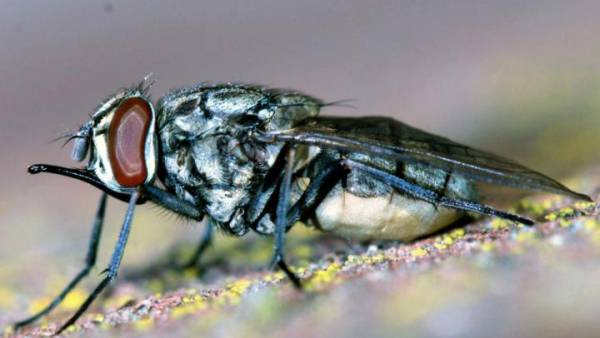fly: (19, 75, 590, 324)
